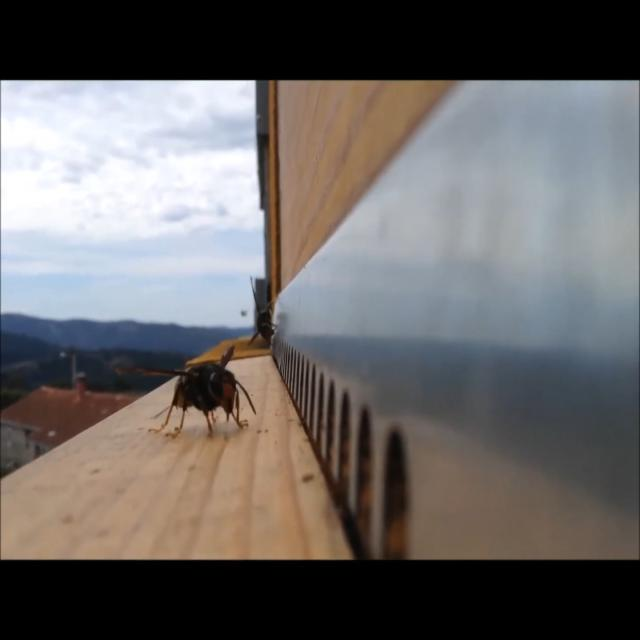Hornets: (114, 344, 258, 435)
